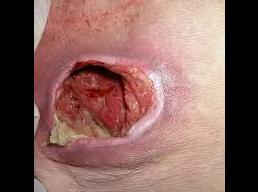Stage4: (45, 44, 172, 160)
